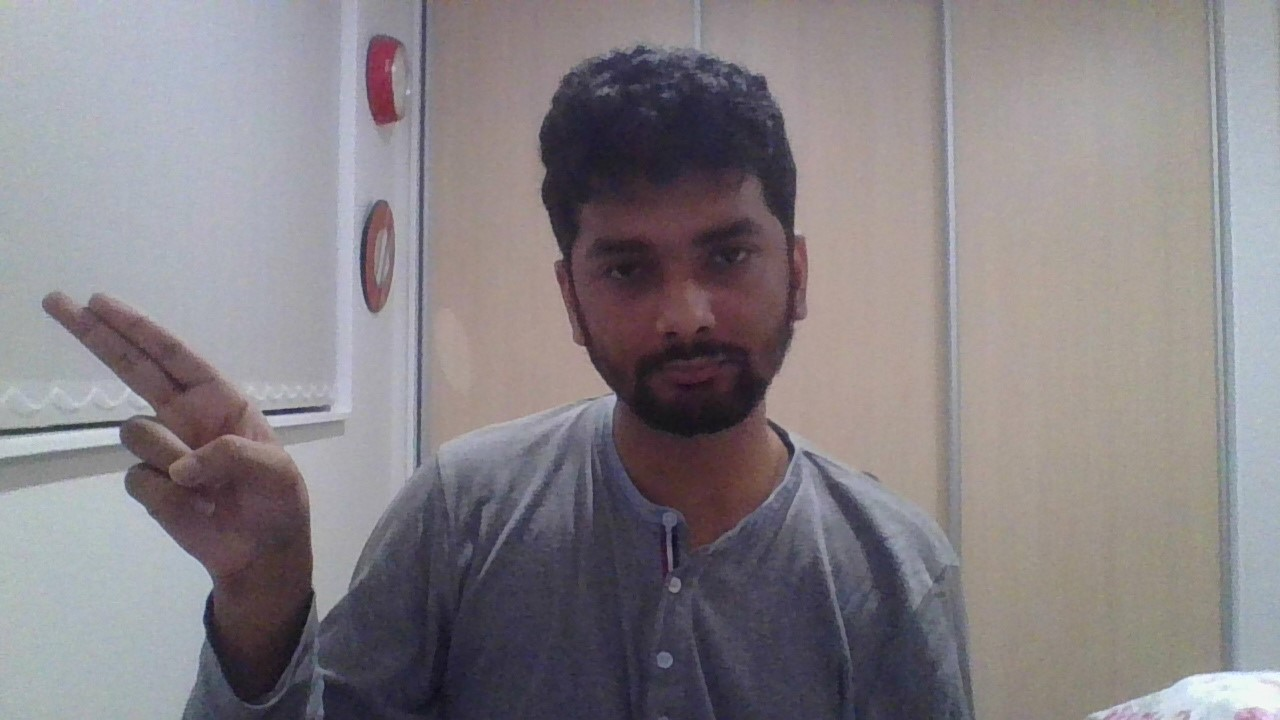peace: (42, 291, 311, 582)
